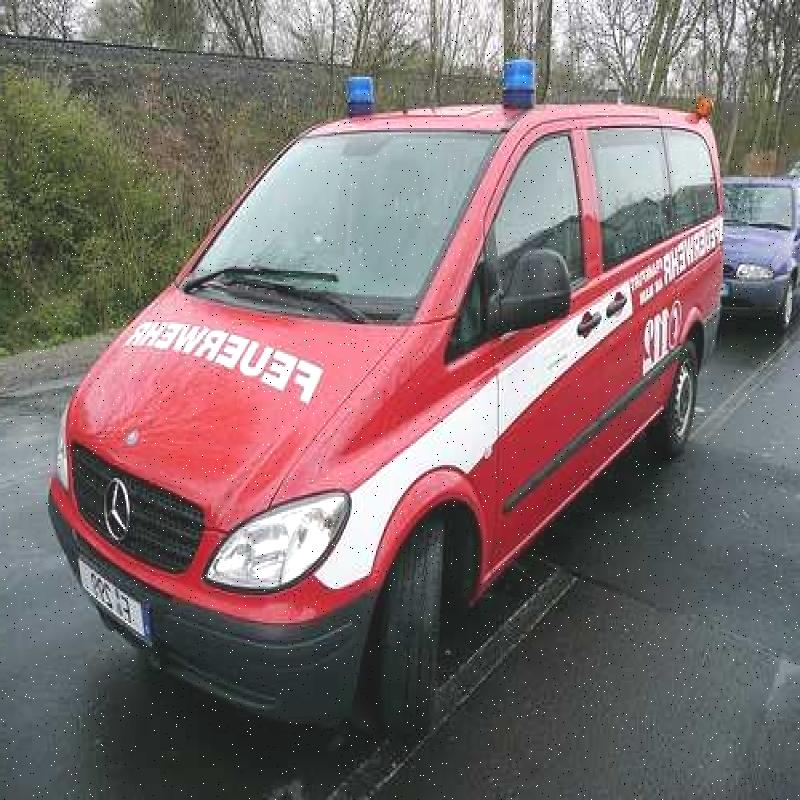AmbulanceSiren: (487, 50, 544, 129), (348, 57, 381, 122)
